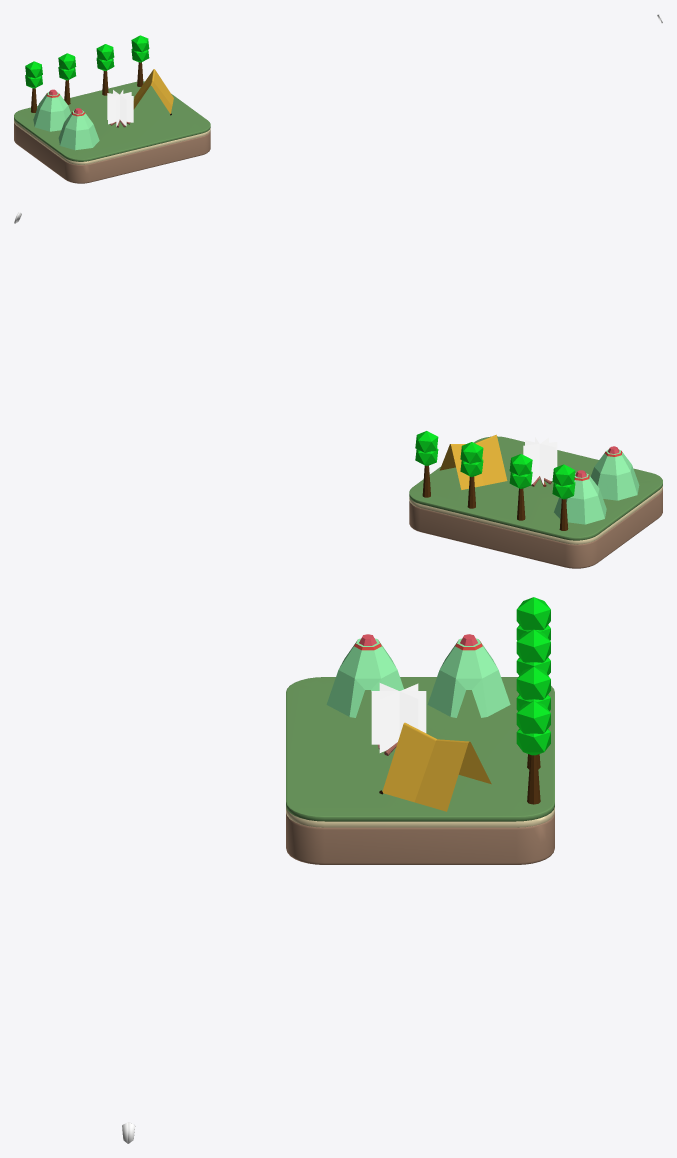
File: camping.glb
The picture shows the model from 3 angles, top to bottom: view 1: azimuth 30°, elevation 25°; view 2: azimuth 150°, elevation 25°; view 3: azimuth 270°, elevation 25°; orthographic projection. The views are drawn at different scales.
Visible parts, largest first — view 1: Cube.022, Cube.028, Cylinder.004, Cylinder.003, Cube.029, Plane.001, cartoon_fire.003, cartoon_fire.001; view 2: Cube.022, Cube.028, Cylinder.004, Plane.001, Cylinder.003, Cube.029; view 3: Cube.022, Cube.028, Plane.001, Cylinder.003, Cylinder.004, Cube.029, cartoon_fire.003, cartoon_fire, BushTop.002, BushTop.003, BushTop, BushTop.001.
Part boxes in pixels (x1=…): Cube.022: x1=14, y1=81, x2=210, y2=161; Cube.028: x1=14, y1=123, x2=210, y2=183; Cylinder.004: x1=58, y1=108, x2=99, y2=150; Cylinder.003: x1=33, y1=89, x2=70, y2=131; Cube.029: x1=14, y1=120, x2=210, y2=164; Plane.001: x1=133, y1=69, x2=173, y2=113; cartoon_fire.003: x1=107, y1=93, x2=133, y2=122; cartoon_fire.001: x1=108, y1=92, x2=131, y2=124; Cube.022: x1=409, y1=436, x2=662, y2=540; Cube.028: x1=409, y1=490, x2=662, y2=568; Cylinder.004: x1=590, y1=446, x2=639, y2=500; Plane.001: x1=439, y1=434, x2=507, y2=489; Cylinder.003: x1=554, y1=470, x2=606, y2=524; Cube.029: x1=409, y1=486, x2=662, y2=544; Cube.022: x1=286, y1=677, x2=554, y2=821; Cube.028: x1=286, y1=813, x2=554, y2=864; Plane.001: x1=382, y1=722, x2=491, y2=811; Cylinder.003: x1=427, y1=634, x2=510, y2=717; Cylinder.004: x1=326, y1=634, x2=403, y2=717; Cube.029: x1=286, y1=807, x2=554, y2=827; cartoon_fire.003: x1=379, y1=683, x2=418, y2=752; cartoon_fire: x1=371, y1=691, x2=426, y2=744; BushTop.002: x1=516, y1=629, x2=550, y2=662; BushTop.003: x1=516, y1=597, x2=550, y2=630; BushTop: x1=516, y1=701, x2=550, y2=734; BushTop.001: x1=516, y1=667, x2=550, y2=699.
Size of the model in its own units: 14.27 by 1.86 by 4.87.
